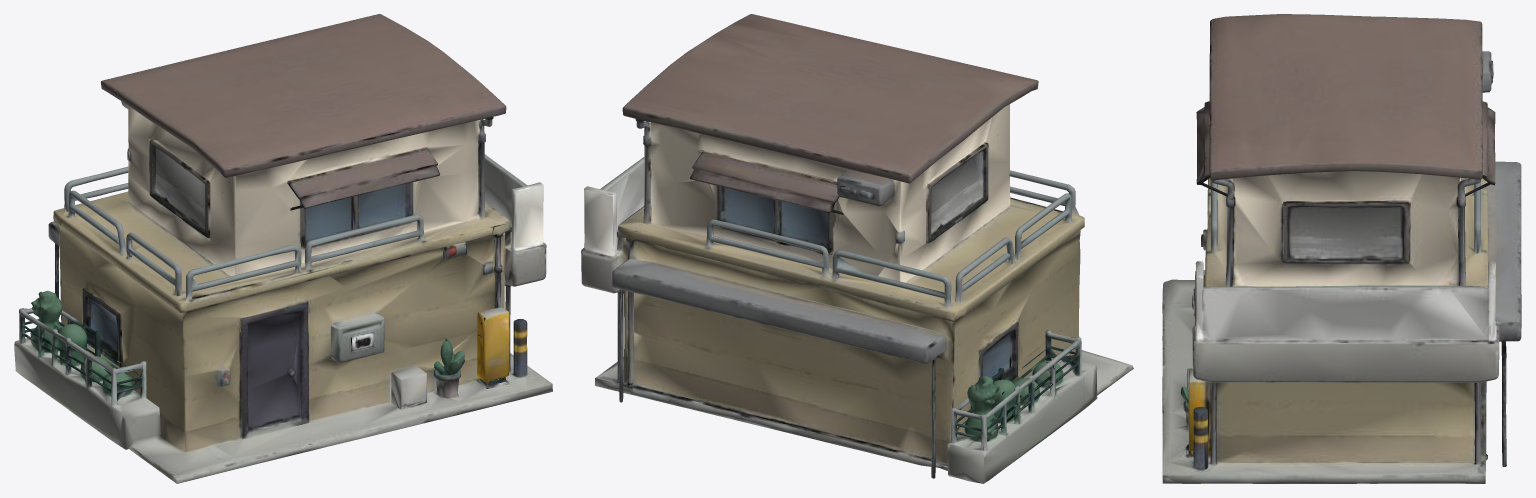
The model's file is building14.glb.
The picture shows the model from 3 angles, left to right: view 1: azimuth 30°, elevation 25°; view 2: azimuth 150°, elevation 25°; view 3: azimuth 270°, elevation 25°; orthographic projection. The views are drawn at different scales.
Parts seen in each view (by area): view 1: lo; view 2: lo; view 3: lo.
Boxes of the visible parts, box(x1,y1,x2,y2) form: lo: box(14, 14, 552, 483); lo: box(581, 14, 1133, 483); lo: box(1162, 14, 1521, 483).
Size of the model in its own units: 0.9999 by 0.6949 by 0.7287.
1 material, 1 textured.
